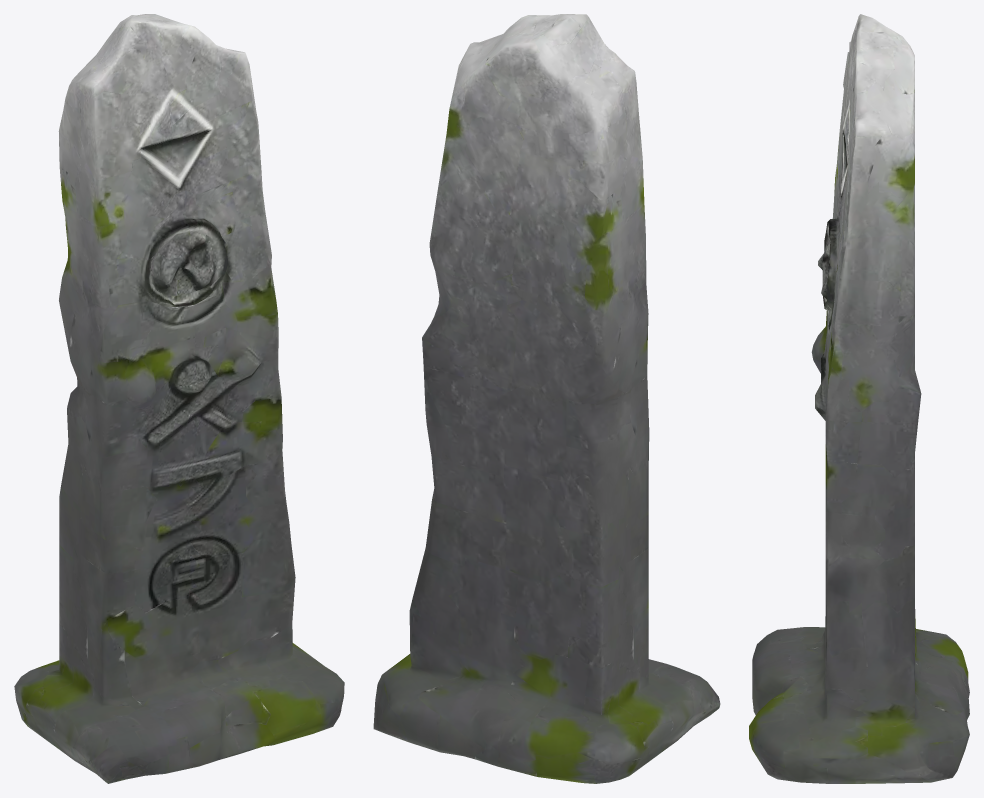
File: waymarker_stone.glb
3 renders of one model, left to right at view 1: azimuth 30°, elevation 25°; view 2: azimuth 150°, elevation 25°; view 3: azimuth 270°, elevation 25°, orthographic. The views are drawn at different scales.
Parts seen in each view (by area): view 1: 0; view 2: 0; view 3: 0.
Part boxes in pixels (x1,y1,x2,y2): 0: (14, 14, 344, 783); 0: (373, 14, 720, 783); 0: (749, 14, 969, 783).
Size of the model in its own units: 0.7318 by 1.9 by 0.5518.
1 material, 1 textured.
